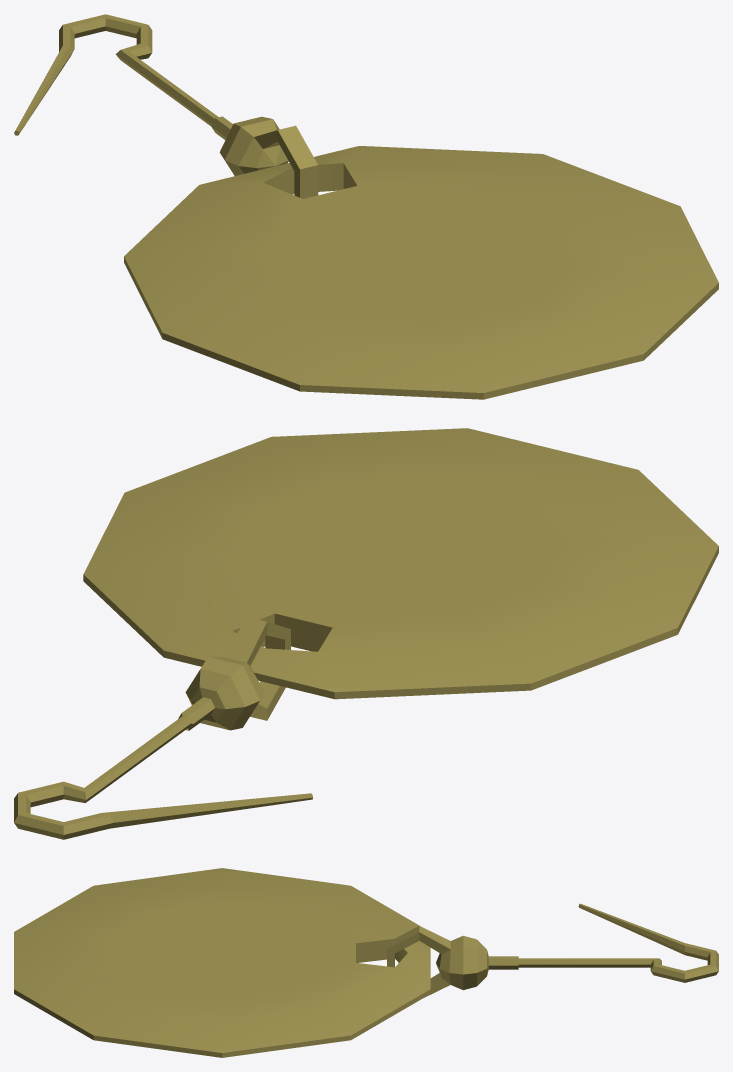
The model's file is Martha Earring.fbx.
3 renders of one model, top to bottom at view 1: azimuth 30°, elevation 25°; view 2: azimuth 150°, elevation 25°; view 3: azimuth 270°, elevation 25°, orthographic. The views are drawn at different scales.
Parts seen in each view (by area): view 1: Earring, Earring_Hook, Earring_Loop1; view 2: Earring, Earring_Hook, Earring_Loop1; view 3: Earring, Earring_Hook, Earring_Loop1.
Part boxes in pixels (x1,y1,x2,y2): Earring: [124, 146, 718, 399]; Earring_Hook: [14, 14, 232, 140]; Earring_Loop1: [219, 116, 318, 198]; Earring: [83, 428, 718, 699]; Earring_Hook: [14, 697, 312, 839]; Earring_Loop1: [185, 617, 290, 730]; Earring: [14, 868, 430, 1057]; Earring_Hook: [488, 903, 718, 982]; Earring_Loop1: [387, 926, 488, 997].
Bounding box in the file's own units: 20 × 3.42 × 32.19.
